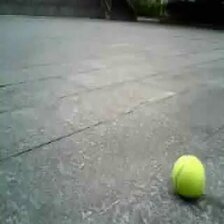tennis: (173, 157, 204, 195)
